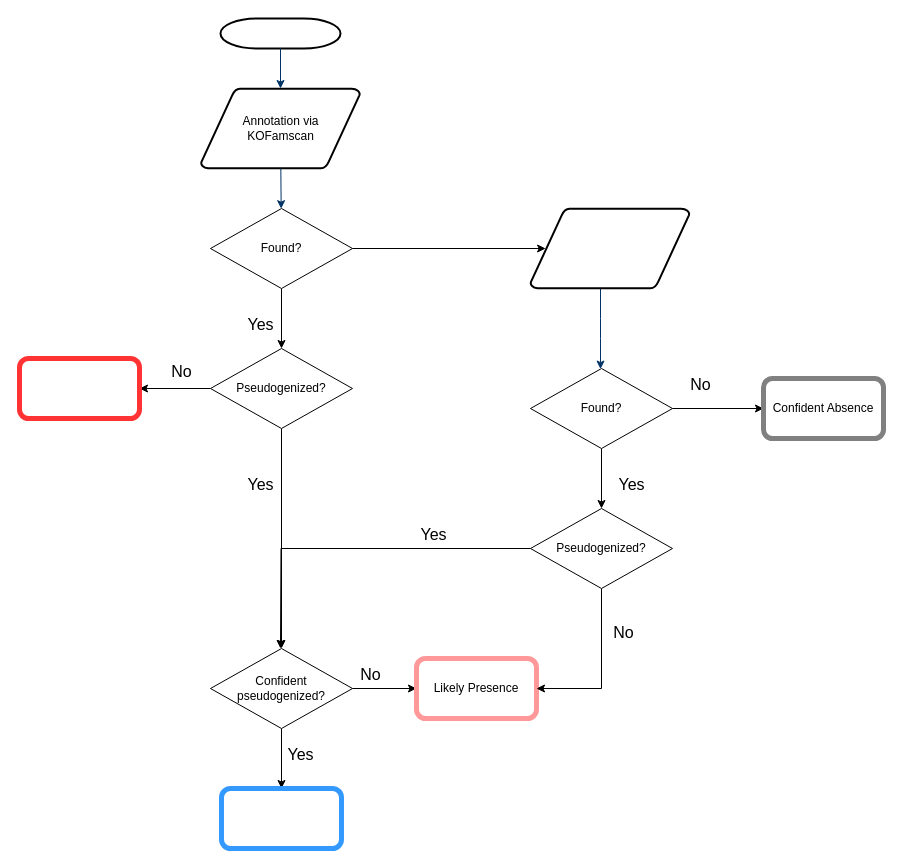
This 903x868 diagram has some shape labels left out. The shapes that lost their labels are listed below. From the top down, each one's centre as x and y in pixels, then its label:
At point 280,33: "Specific Locus".
At point 609,248: "Annotation via Interproscan".
At point 79,388: "Confident Presence".
At point 281,818: "Likely Abesence".
